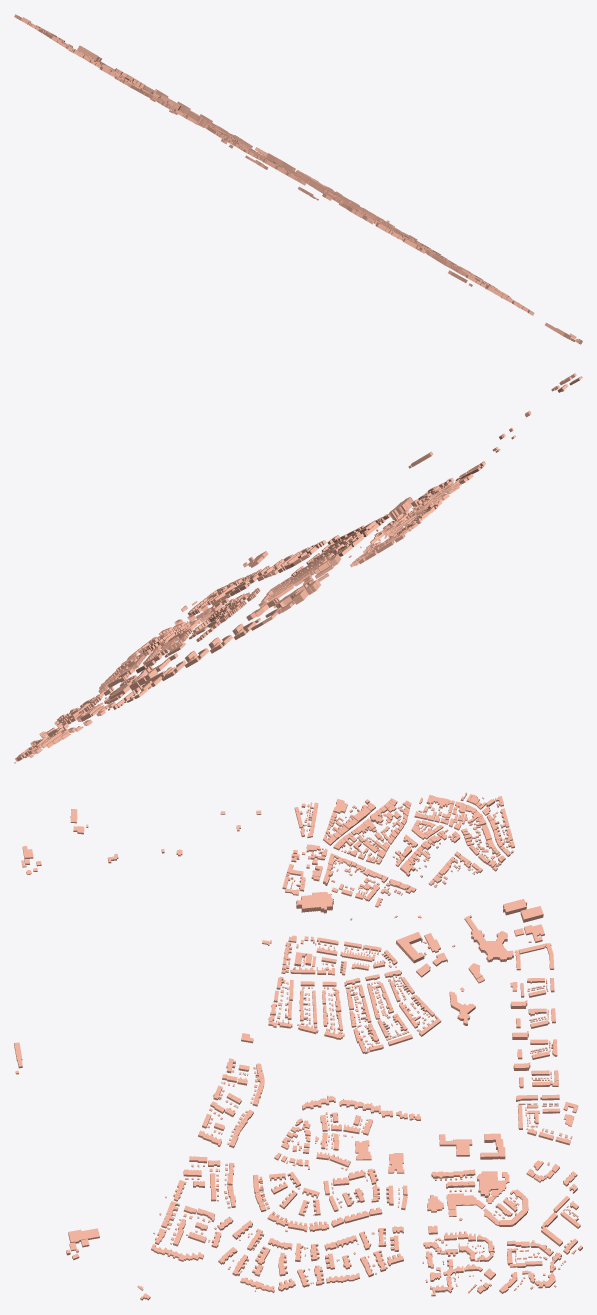
The picture shows the model from 3 angles, top to bottom: view 1: azimuth 30°, elevation 25°; view 2: azimuth 150°, elevation 25°; view 3: azimuth 270°, elevation 25°; orthographic projection. The views are drawn at different scales.
Bounding box in the file's own units: 1015 × 746 × 1222.
